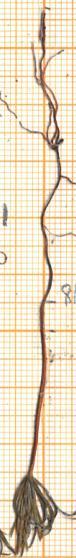flower: (2, 466, 76, 558)
root: (0, 4, 76, 303)
stem: (24, 301, 48, 471)
